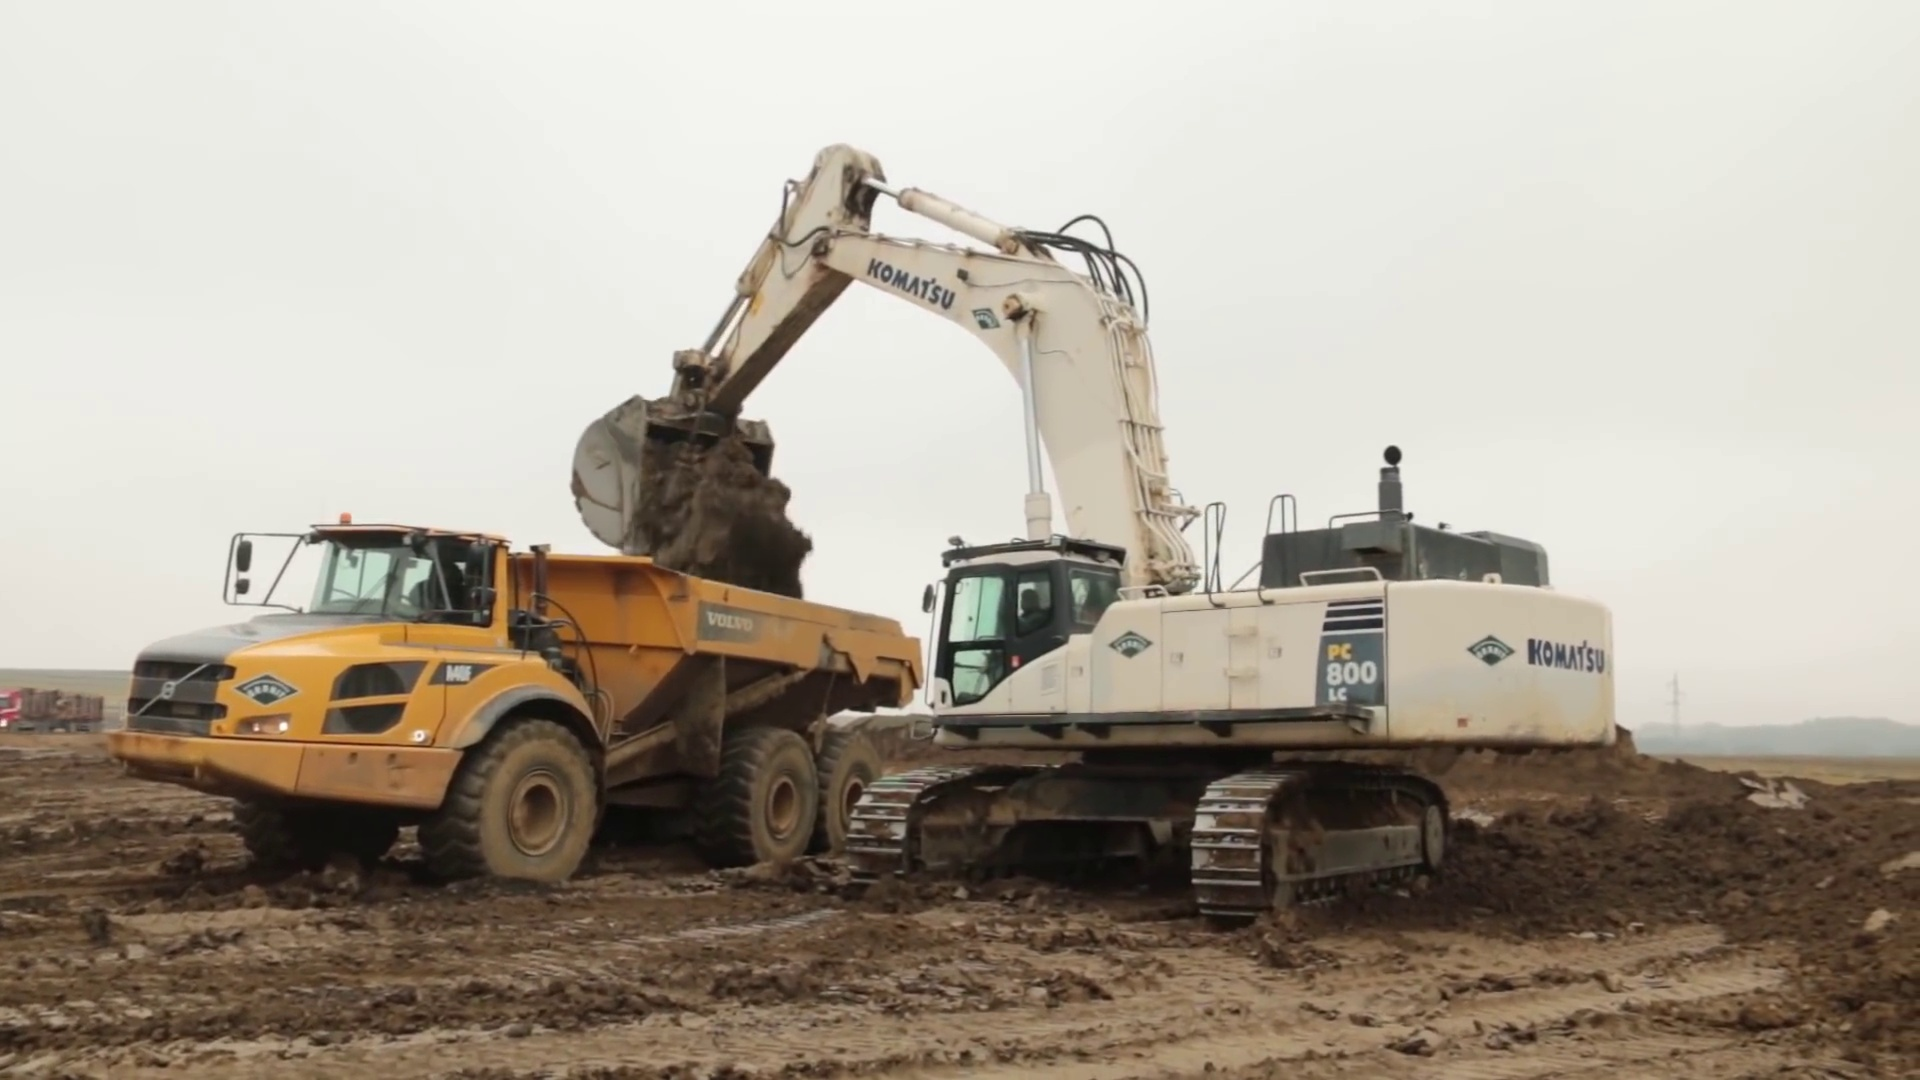dumper: (111, 512, 926, 884)
excavator: (574, 142, 1619, 934)
